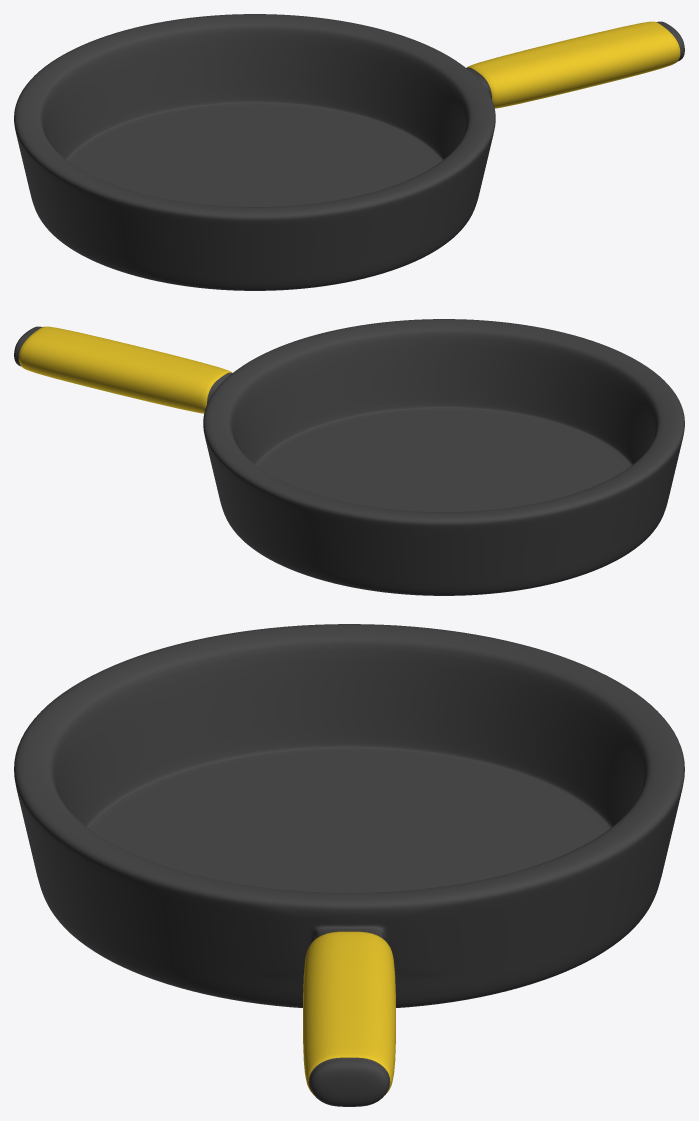
The model's file is FryingPan.glb.
3 views of the same model, one above another, from view 1: azimuth 30°, elevation 25°; view 2: azimuth 150°, elevation 25°; view 3: azimuth 270°, elevation 25° (orthographic). The views are drawn at different scales.
Parts seen in each view (by area): view 1: Cylinder; view 2: Cylinder; view 3: Cylinder.
Part boxes in pixels (x1=…): Cylinder: x1=14, y1=14, x2=684, y2=290; Cylinder: x1=14, y1=319, x2=684, y2=595; Cylinder: x1=14, y1=624, x2=684, y2=1106.
Bounding box in the file's own units: 3.24 × 0.4206 × 2.16.
